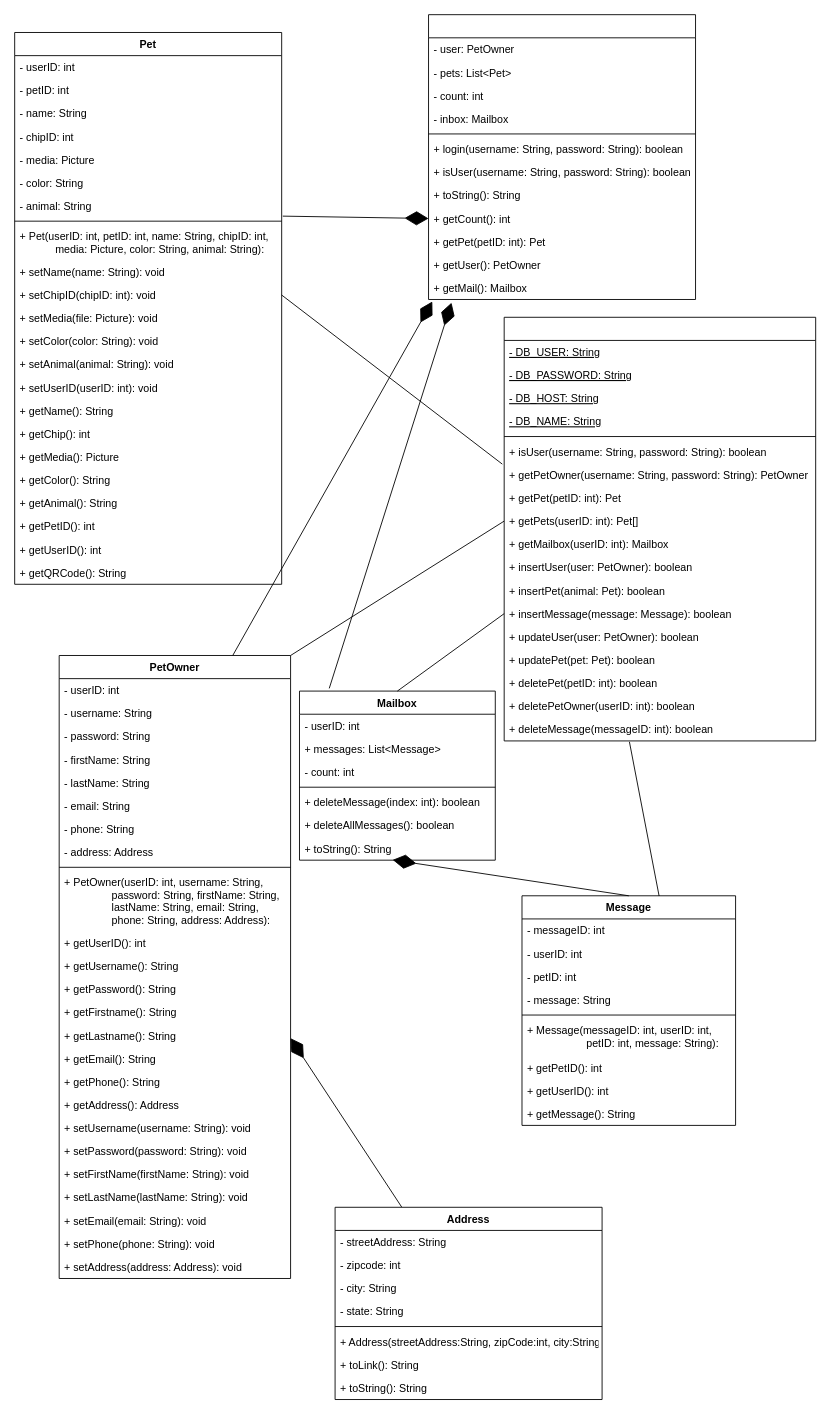
This 830x1414 diagram has some shape labels left out. The box of each missing label's shape, as (x1, y1, x2, y2) in pixels:
Database: (503, 316, 816, 741)
Profile: (428, 14, 696, 299)
